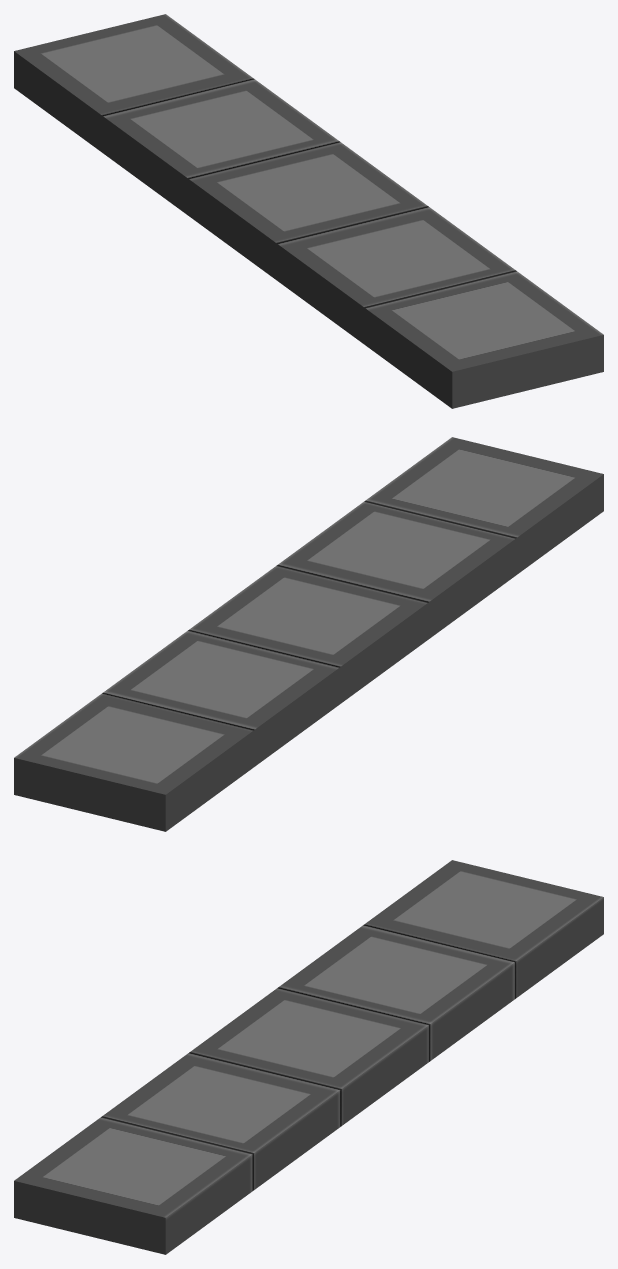
The model's file is sm_sideWalk_L_GEO.fbx.
3 renders of one model, top to bottom at view 1: azimuth 30°, elevation 25°; view 2: azimuth 150°, elevation 25°; view 3: azimuth 330°, elevation 25°, orthographic.
Parts seen in each view (by area): view 1: sideWalk_L_GEO; view 2: sideWalk_L_GEO; view 3: sideWalk_L_GEO.
Boxes of the visible parts, x1=… form: sideWalk_L_GEO: x1=14, y1=14, x2=603, y2=408; sideWalk_L_GEO: x1=14, y1=437, x2=603, y2=831; sideWalk_L_GEO: x1=14, y1=860, x2=603, y2=1254.
Size of the model in its own units: 6 by 1.4 by 30.
